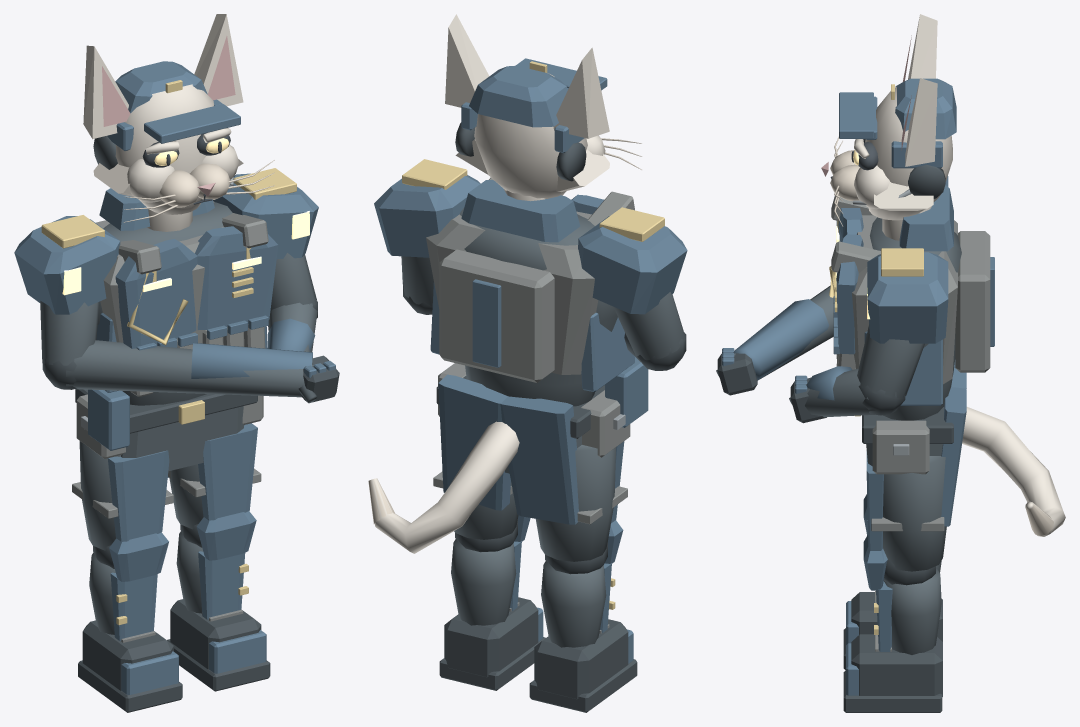
The model's file is cat_officer.glb.
3 views of the same model, side by side, from view 1: azimuth 30°, elevation 25°; view 2: azimuth 150°, elevation 25°; view 3: azimuth 270°, elevation 25° (orthographic). The views are drawn at different scales.
Visible parts, largest first — view 1: forearm_L_63, chest_plate_16, chest_plate_3, shoulder_L_64, thigh_plate_33, thigh_plate_48, head_86, pelvis_31, shoulder_R_75, forearm_guard_L_67, boot_39, boot_54 (+44 smaller); view 2: backpack_123, uniform_coattail_128, shoulder_L_64, carrier_2, tail_121, torso_1, head_86, uniform_coattail_130, thigh_32, shoulder_R_75, boot_54, boot_39 (+28 smaller); view 3: shoulder_R_75, thigh_47, backpack_123, tail_121, boot_54, forearm_guard_L_67, calf_52, upper_arm_R_73, hip_pouch_27, carrier_2, head_86, neck_guard_85 (+31 smaller).
Boxes of the visible parts, x1=… form: forearm_L_63: x1=66, y1=340, x2=313, y2=397; chest_plate_16: x1=195, y1=226, x2=278, y2=329; chest_plate_3: x1=115, y1=239, x2=197, y2=348; shoulder_L_64: x1=14, y1=216, x2=120, y2=314; thigh_plate_33: x1=107, y1=450, x2=169, y2=541; thigh_plate_48: x1=198, y1=423, x2=257, y2=520; head_86: x1=115, y1=84, x2=213, y2=214; pelvis_31: x1=121, y1=406, x2=243, y2=471; shoulder_R_75: x1=213, y1=173, x2=318, y2=259; forearm_guard_L_67: x1=191, y1=343, x2=312, y2=378; boot_39: x1=82, y1=620, x2=173, y2=690; boot_54: x1=170, y1=599, x2=261, y2=669; backpack_123: x1=439, y1=249, x2=554, y2=382; uniform_coattail_128: x1=500, y1=396, x2=578, y2=524; shoulder_L_64: x1=578, y1=216, x2=687, y2=314; carrier_2: x1=426, y1=211, x2=598, y2=374; tail_121: x1=370, y1=421, x2=519, y2=553; torso_1: x1=459, y1=208, x2=617, y2=406; head_86: x1=474, y1=73, x2=587, y2=198; uniform_coattail_130: x1=438, y1=374, x2=510, y2=510; thigh_32: x1=535, y1=445, x2=615, y2=561; shoulder_R_75: x1=374, y1=175, x2=480, y2=257; boot_54: x1=444, y1=597, x2=538, y2=677; boot_39: x1=534, y1=619, x2=628, y2=699; shoulder_R_75: x1=867, y1=252, x2=948, y2=343; thigh_47: x1=883, y1=456, x2=946, y2=571; backpack_123: x1=955, y1=231, x2=990, y2=372; tail_121: x1=962, y1=407, x2=1065, y2=536; boot_54: x1=851, y1=634, x2=942, y2=696; forearm_guard_L_67: x1=733, y1=299, x2=829, y2=380; calf_52: x1=884, y1=568, x2=941, y2=654; upper_arm_R_73: x1=857, y1=324, x2=924, y2=398; hip_pouch_27: x1=872, y1=420, x2=929, y2=474; carrier_2: x1=852, y1=215, x2=957, y2=384; head_86: x1=865, y1=86, x2=952, y2=220; neck_guard_85: x1=899, y1=185, x2=953, y2=251.
Size of the model in its own units: 1.17 by 2.59 by 1.29.
